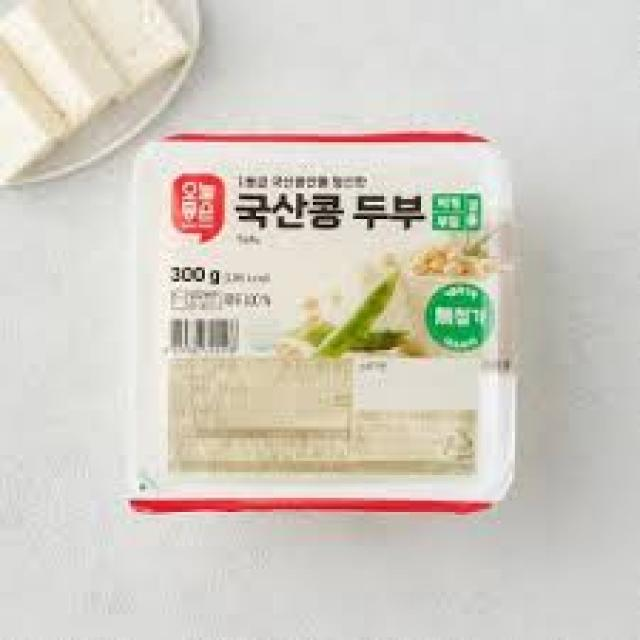tofu: (126, 120, 523, 522)
